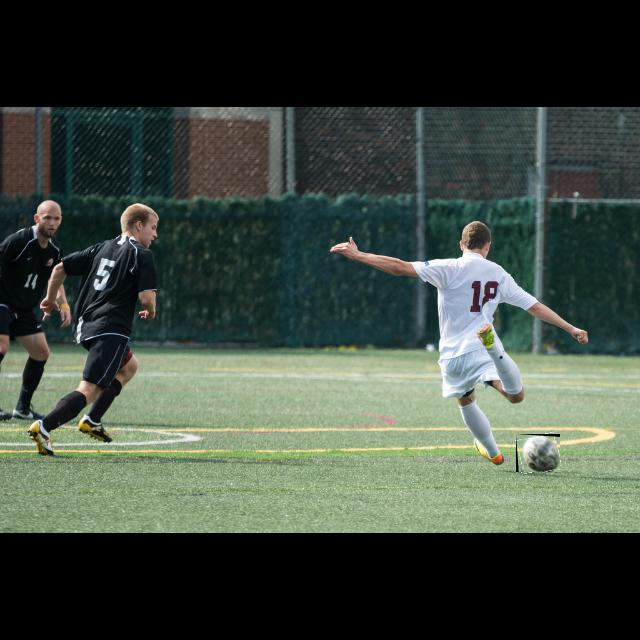Football: (516, 434, 560, 472)
